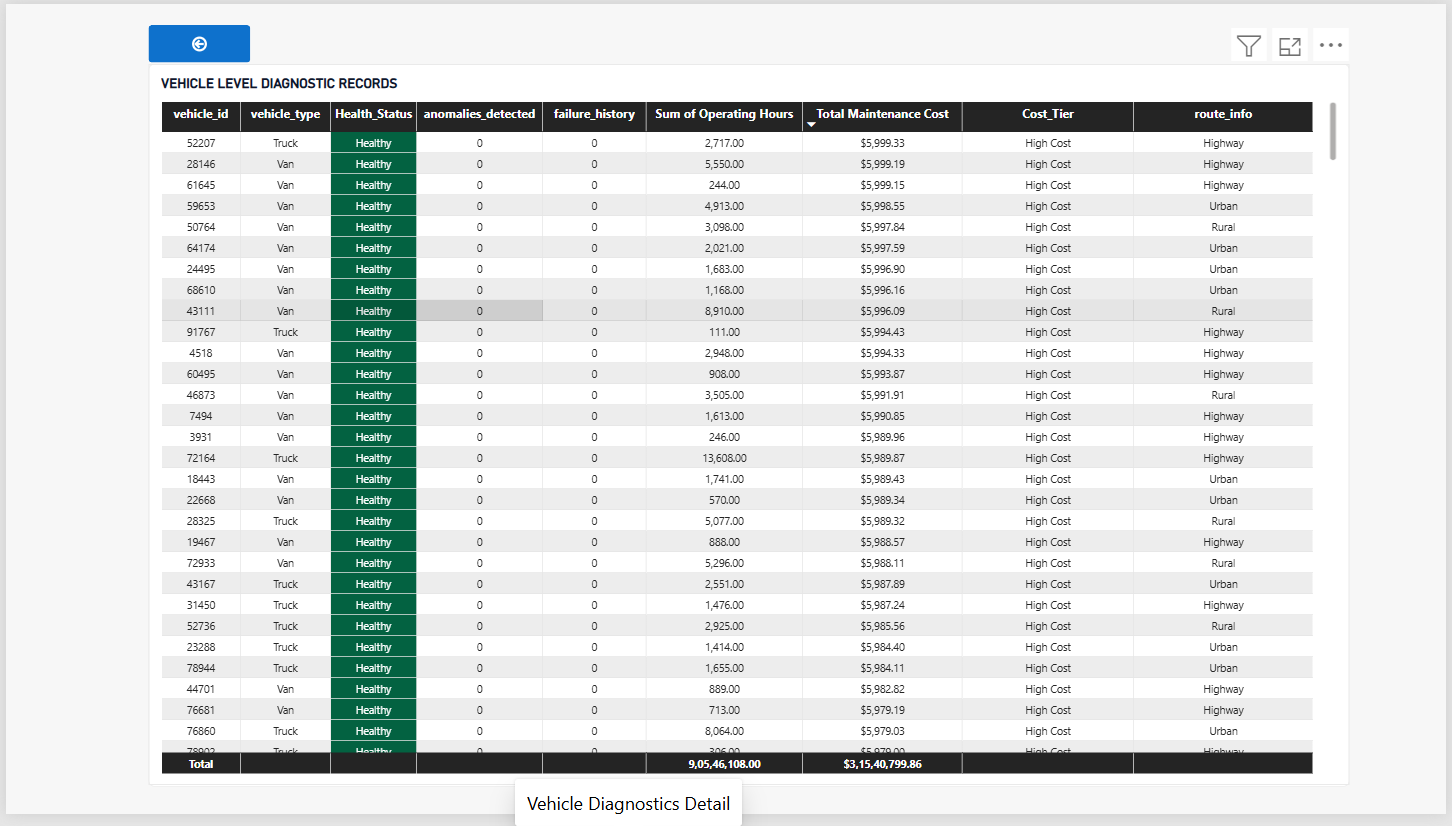

The page's visual inventory and layout, read from the dashboard file:
{"tool":"powerbi","page":{"name":"Vehicle Diagnostics Detail","canvas":[1920,1080],"ordinal":2},"visuals":[{"type":"tableEx","title":"VEHICLE LEVEL DIAGNOSTIC RECORDS","fields":{"Values":["Fact_Fleet_Operations.vehicle_id","Dim_Vehicle.vehicle_type","Dim_Telemetry.Health_Status","Dim_Telemetry.anomalies_detected","Dim_Telemetry.failure_history","Sum(Fact_Fleet_Operations.usage_hours)","'_Measures'.Total Maintenance Cost","Fact_Fleet_Operations.Cost_Tier","Fact_Fleet_Operations.route_info"]},"box":[190.6,79.1,1601.3,963],"z":0},{"type":"actionButton","box":[190.5,28.6,135.7,50],"z":1000}]}

Visuals, with their boxes on the page's 1920x1080 design canvas (x1, y1, x2, y2). These are canvas units, not pixel positions in the 1452x826 screenshot, which may show the page scaled, cropped or inside an application window:
"VEHICLE LEVEL DIAGNOSTIC RECORDS" tableEx: 191/79/1792/1042
actionButton: 190/29/326/79
